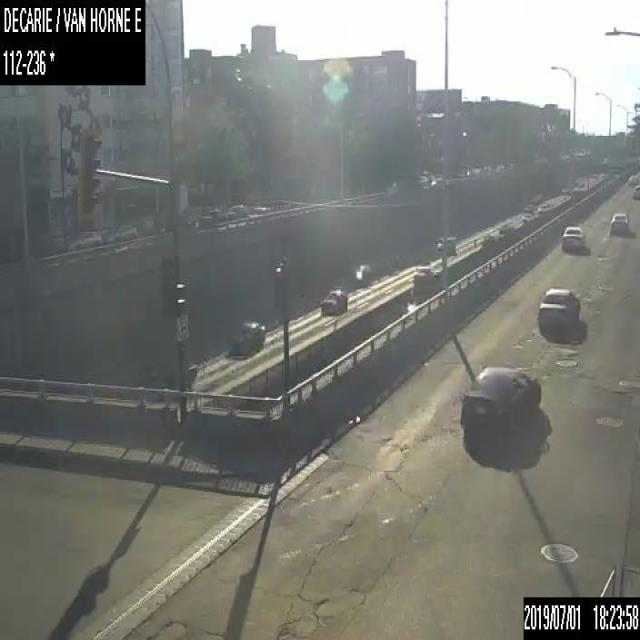vehicle: (459, 362, 542, 438), (536, 286, 579, 330), (226, 319, 265, 356), (64, 230, 103, 252), (318, 286, 347, 314), (102, 224, 136, 246), (562, 223, 583, 249), (434, 233, 456, 257), (352, 262, 371, 284), (610, 211, 628, 233), (202, 206, 224, 223), (226, 204, 246, 218), (628, 173, 638, 185), (632, 185, 639, 200)
